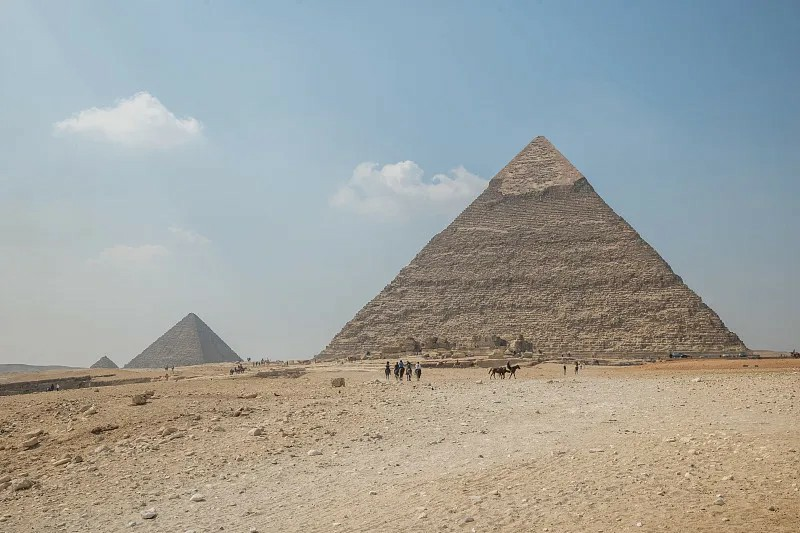Pyramid: (311, 135, 760, 362), (121, 313, 245, 366), (89, 356, 119, 369)
